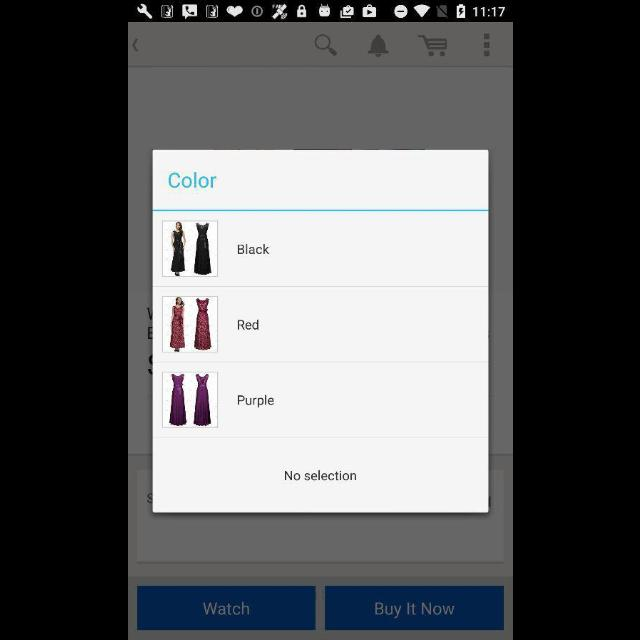icon: (416, 36, 446, 58), (314, 35, 338, 57), (366, 34, 388, 58), (482, 34, 490, 58), (132, 39, 138, 53)
image: (162, 296, 218, 354), (162, 372, 218, 428), (162, 221, 218, 277)
panel: (152, 151, 488, 514)
text: (284, 470, 356, 482), (168, 172, 216, 190), (236, 394, 274, 408), (237, 244, 269, 256), (237, 320, 259, 330)
textbutton: (324, 586, 503, 630), (137, 586, 316, 630)
uppertaskbar: (128, 1, 512, 23)
